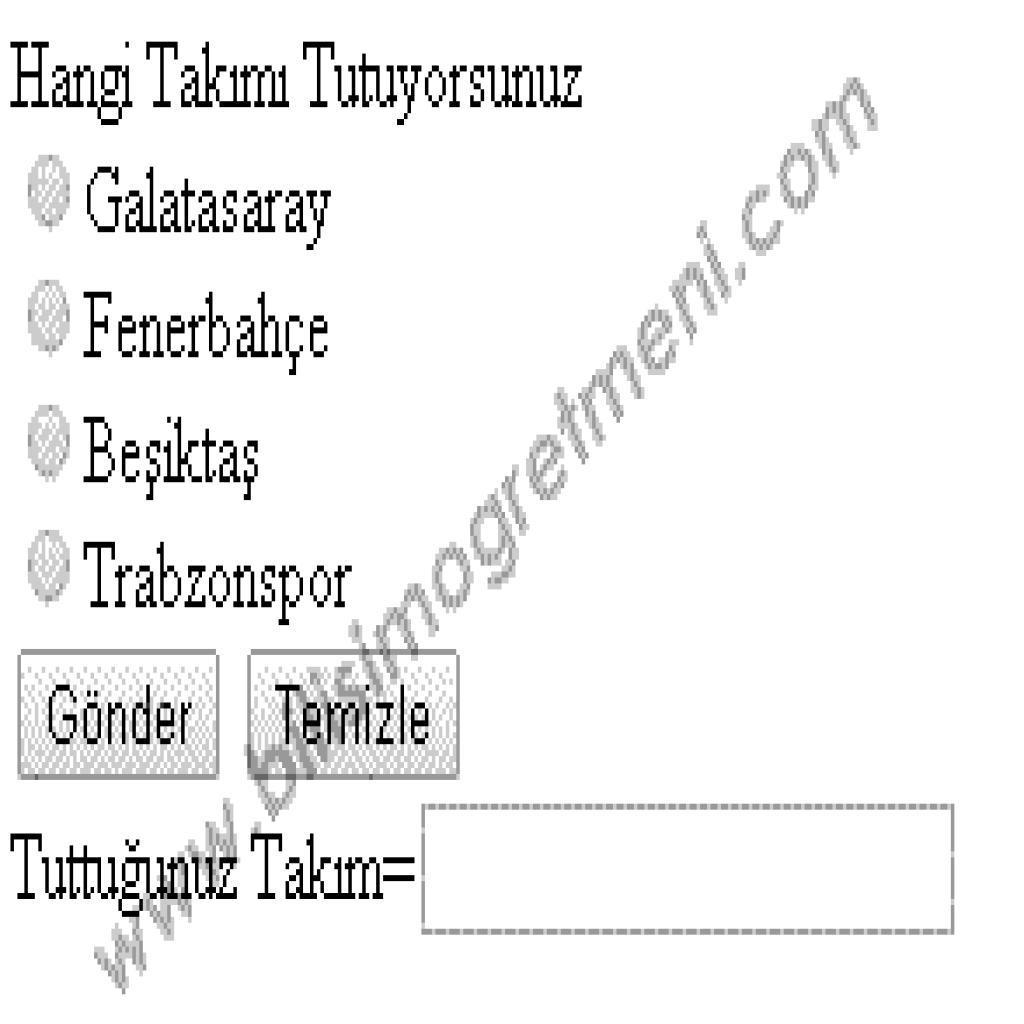button: (251, 650, 462, 784), (20, 649, 223, 781)
input: (421, 806, 954, 938)
radio: (18, 270, 79, 370), (24, 133, 77, 240), (20, 520, 77, 609), (25, 401, 77, 492)
